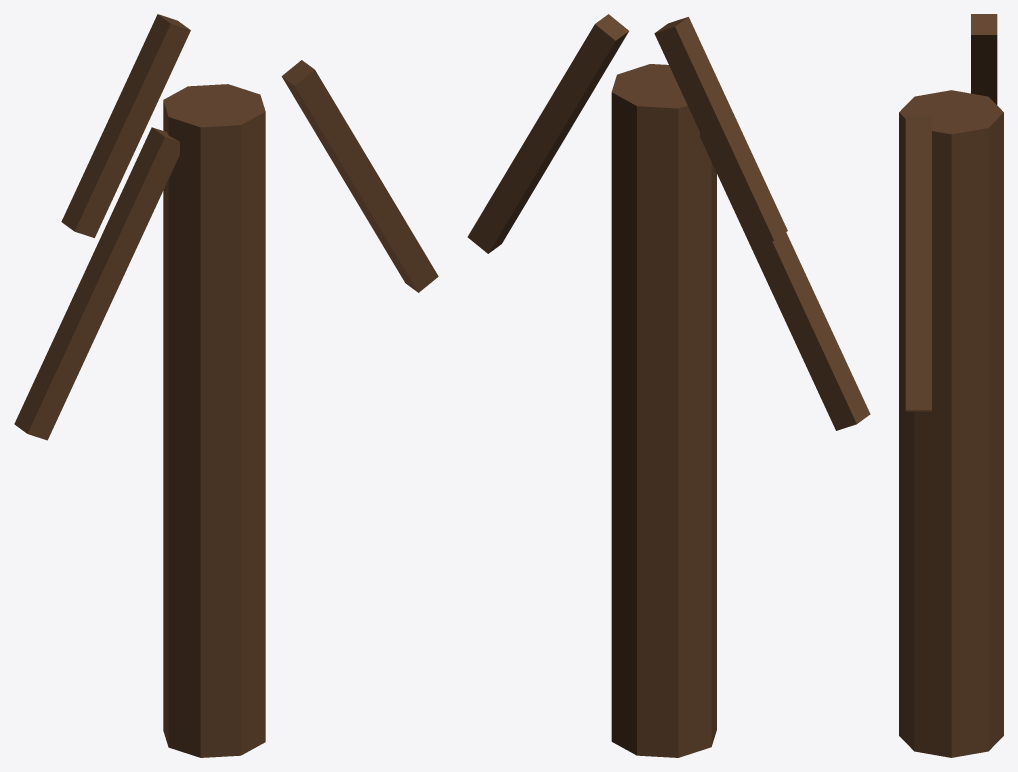
Rendered from dead_tree.glb.
The picture shows the model from 3 angles, left to right: view 1: azimuth 30°, elevation 25°; view 2: azimuth 150°, elevation 25°; view 3: azimuth 270°, elevation 25°; orthographic projection. The views are drawn at different scales.
Parts seen in each view (by area): view 1: Trunk, Branch0, Branch2, Branch1; view 2: Trunk, Branch2, Branch1, Branch0; view 3: Trunk, Branch1, Branch2.
Boxes of the visible parts, x1,y1,x2,y2 form: Trunk: [163, 84, 265, 757]; Branch0: [14, 127, 179, 440]; Branch2: [61, 14, 190, 237]; Branch1: [281, 60, 438, 292]; Trunk: [611, 64, 716, 757]; Branch2: [654, 17, 787, 247]; Branch1: [467, 14, 628, 253]; Branch0: [700, 132, 870, 430]; Trunk: [899, 90, 1003, 757]; Branch1: [905, 115, 931, 411]; Branch2: [971, 14, 997, 104].
Bounding box in the file's own units: 2.75 × 4.75 × 0.64.
